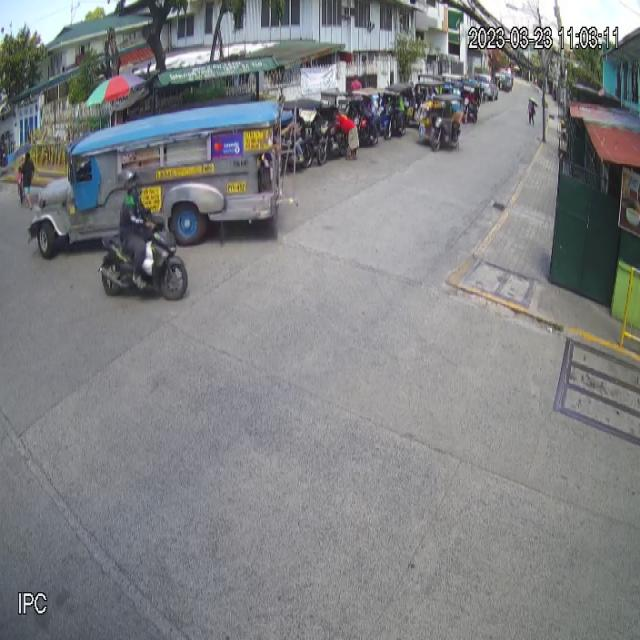Jeep: (27, 101, 290, 261)
Motorcycle: (98, 211, 187, 302)
